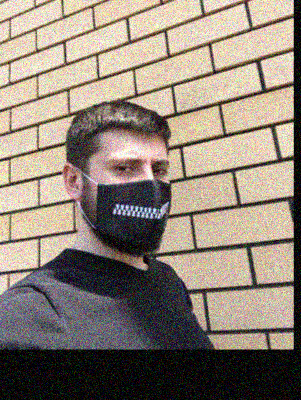with_mask: (93, 146, 172, 255)
